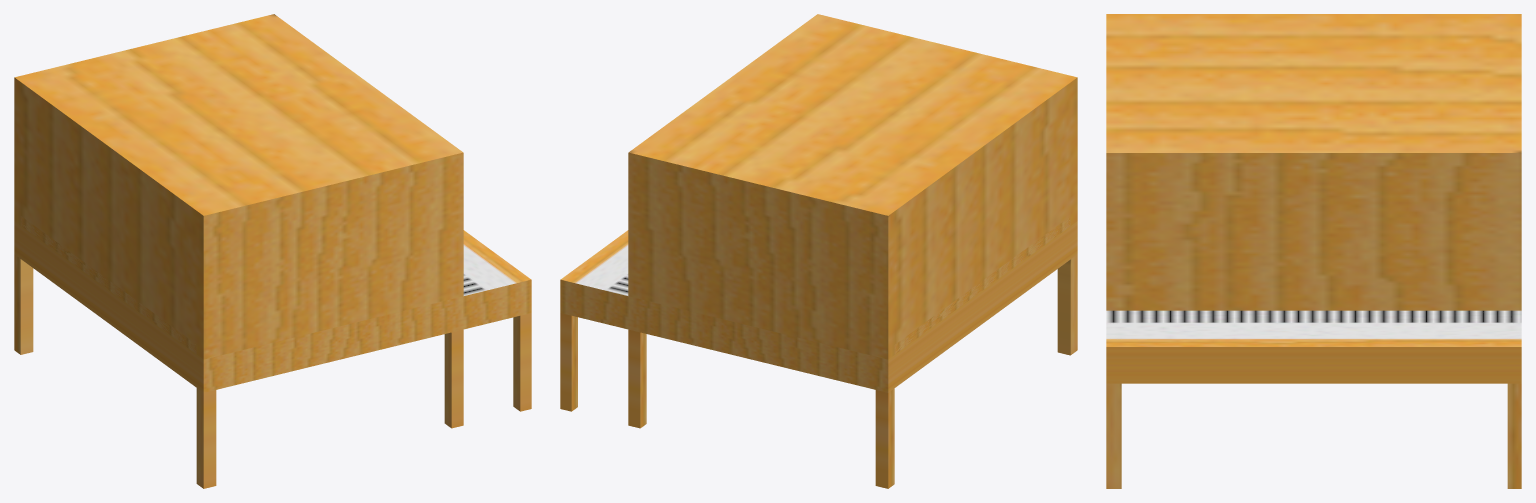
Rendered from Piano.fbx.
The picture shows the model from 3 angles, left to right: view 1: azimuth 30°, elevation 25°; view 2: azimuth 150°, elevation 25°; view 3: azimuth 270°, elevation 25°; orthographic projection. The views are drawn at different scales.
Visible parts, largest first — view 1: pCube1; view 2: pCube1; view 3: pCube1.
Part boxes in pixels (x1,y1,x2,y2): pCube1: (14, 14, 531, 488); pCube1: (560, 14, 1077, 488); pCube1: (1106, 14, 1521, 488).
Size of the model in its own units: 13.88 by 11.05 by 13.88.
Materials: 1 (1 with a texture image).
